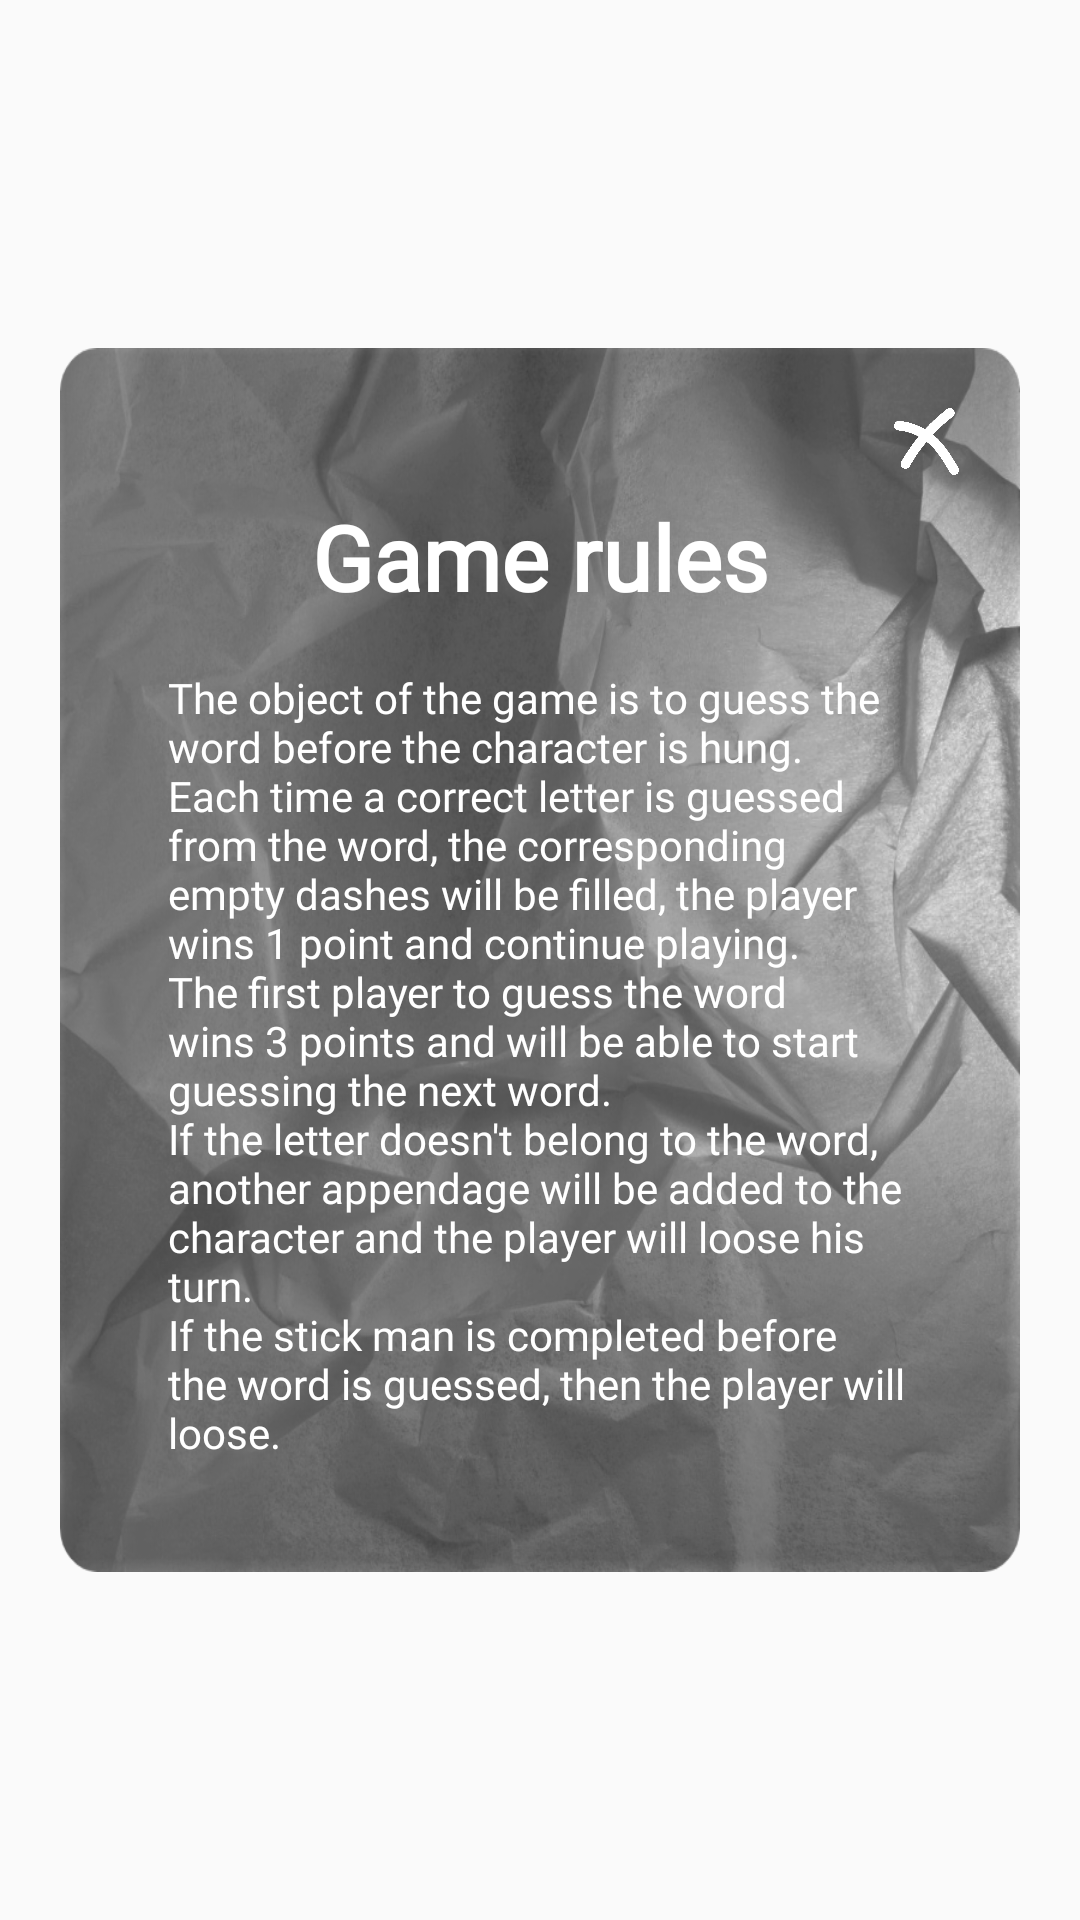

Point at icon controls on the screen. Image size 1080 x 1920, points as (x=x, y=y).
figclose: (x=926, y=441)
